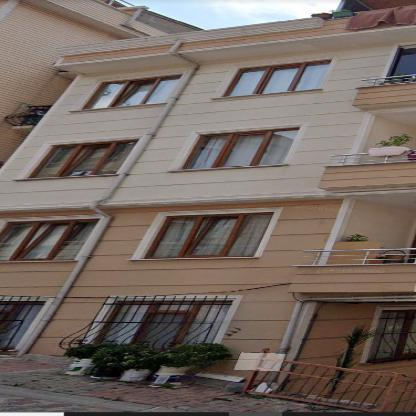window: (144, 212, 275, 256), (96, 301, 227, 343), (181, 128, 300, 169), (1, 219, 99, 260), (33, 141, 133, 176), (229, 62, 329, 95), (84, 77, 177, 108), (0, 300, 45, 350), (372, 310, 415, 361), (389, 45, 415, 76)
